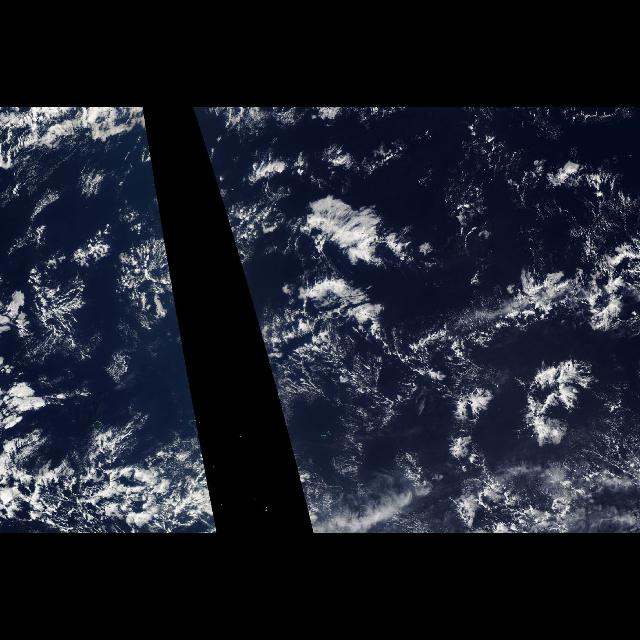Fish: (508, 235, 640, 455), (287, 264, 443, 376)
